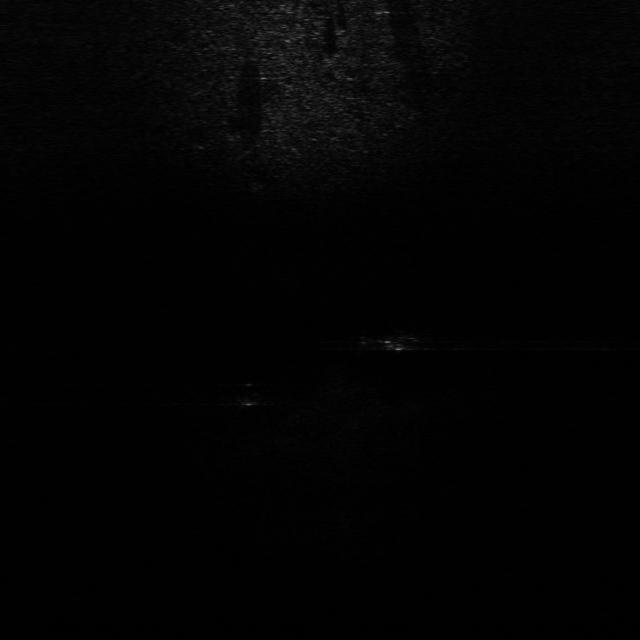ball: (222, 376, 277, 412)
human body: (332, 324, 441, 356)
